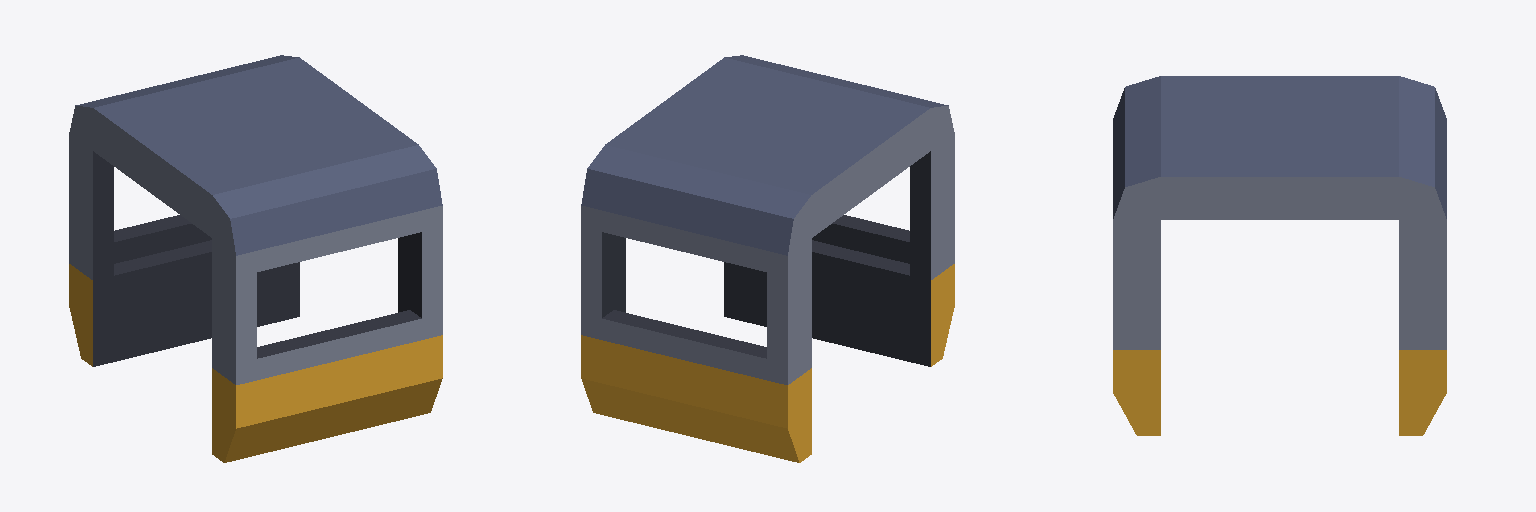
Rendered from cover-stripe-window.obj.
3 views of the same model, side by side, from view 1: azimuth 30°, elevation 25°; view 2: azimuth 150°, elevation 25°; view 3: azimuth 270°, elevation 25° (orthographic).
Parts seen in each view (by area): view 1: cover-stripe-window; view 2: cover-stripe-window; view 3: cover-stripe-window.
Part boxes in pixels (x1,y1,x2,y2): cover-stripe-window: (69, 55, 442, 462); cover-stripe-window: (581, 55, 954, 462); cover-stripe-window: (1113, 76, 1446, 435).
Bounding box in the file's own units: 1 × 1.2 × 1.4.